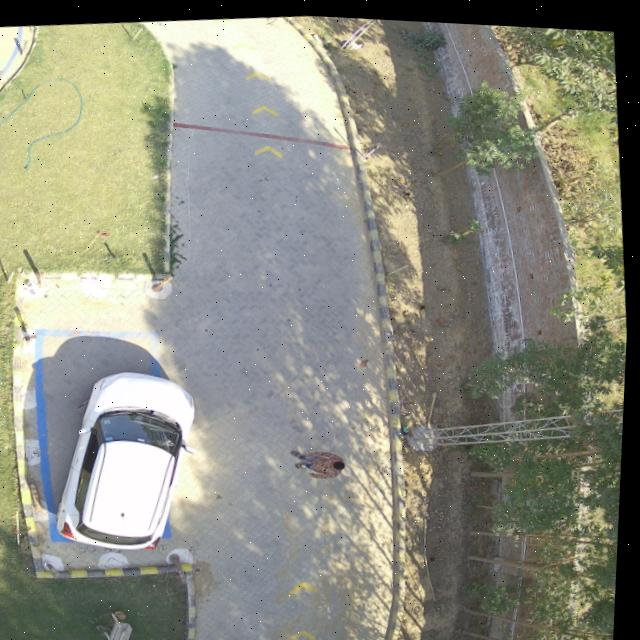car: (60, 369, 200, 548)
